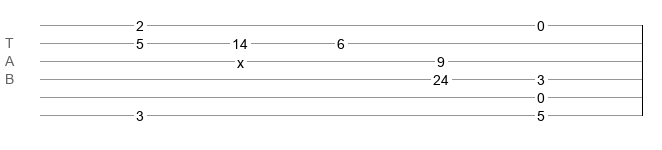0: (537, 18, 545, 28), (537, 90, 545, 100)
14: (232, 36, 248, 46)
2: (136, 18, 144, 28)
24: (433, 72, 449, 82)
3: (136, 108, 144, 118), (537, 72, 545, 82)
5: (136, 36, 144, 46), (537, 108, 545, 118)
6: (337, 36, 345, 46)
9: (437, 54, 445, 64)
x: (237, 55, 244, 63)
